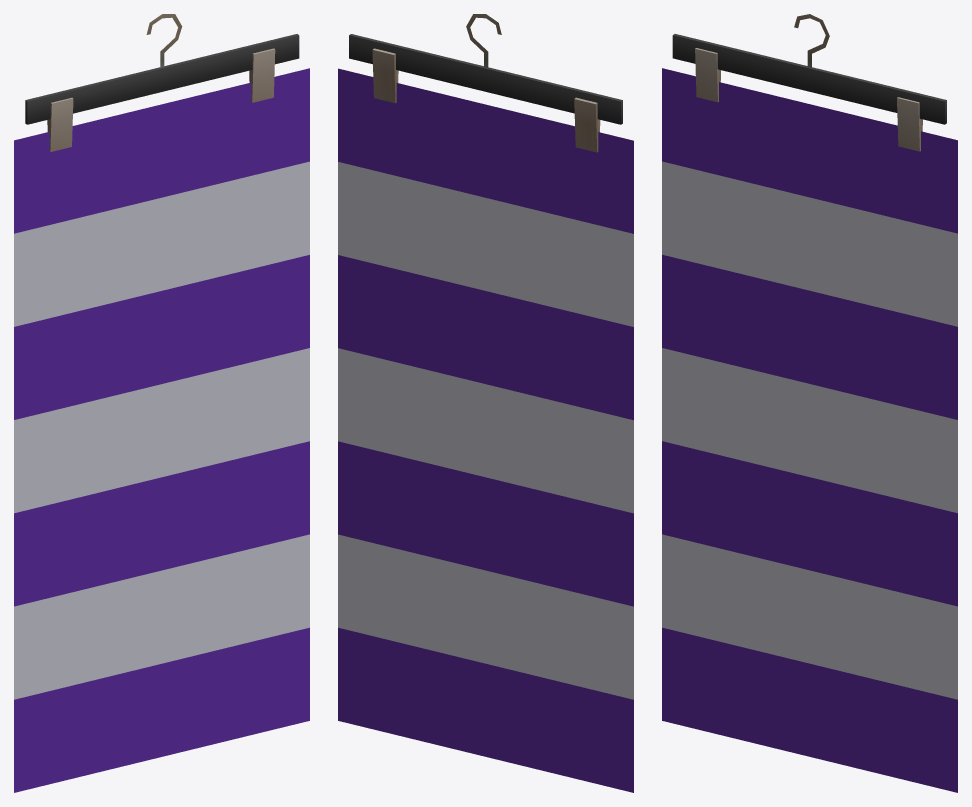
The model's file is Hang_Towel_09.fbx.
The picture shows the model from 3 angles, left to right: view 1: azimuth 30°, elevation 25°; view 2: azimuth 150°, elevation 25°; view 3: azimuth 330°, elevation 25°; orthographic projection.
Visible parts, largest first — view 1: Hang_Towel_09; view 2: Hang_Towel_09; view 3: Hang_Towel_09.
Boxes of the visible parts, <box> form: Hang_Towel_09: <box>14,14,309,792</box>; Hang_Towel_09: <box>338,14,633,792</box>; Hang_Towel_09: <box>662,14,957,792</box>.
Bounding box in the file's own units: 0.1687 × 0.4049 × 0.00506.
